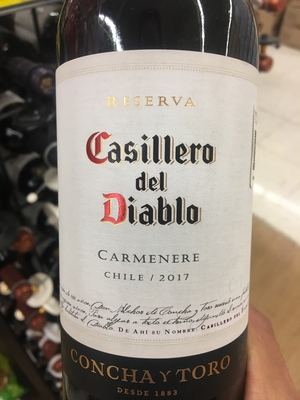casillero del diablo carmenere: (44, 19, 261, 389)
